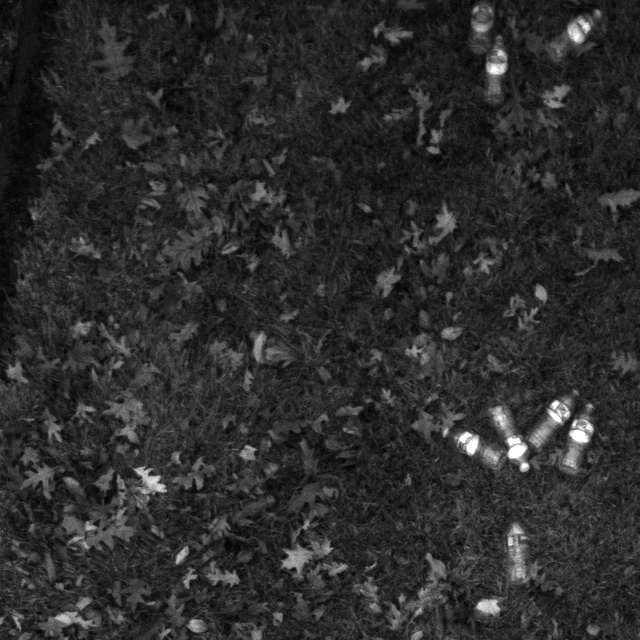bottle: (516, 381, 586, 459), (476, 31, 533, 111), (550, 393, 605, 474), (543, 1, 610, 67), (483, 404, 541, 471), (452, 1, 510, 67), (446, 421, 514, 474), (499, 516, 536, 585)
